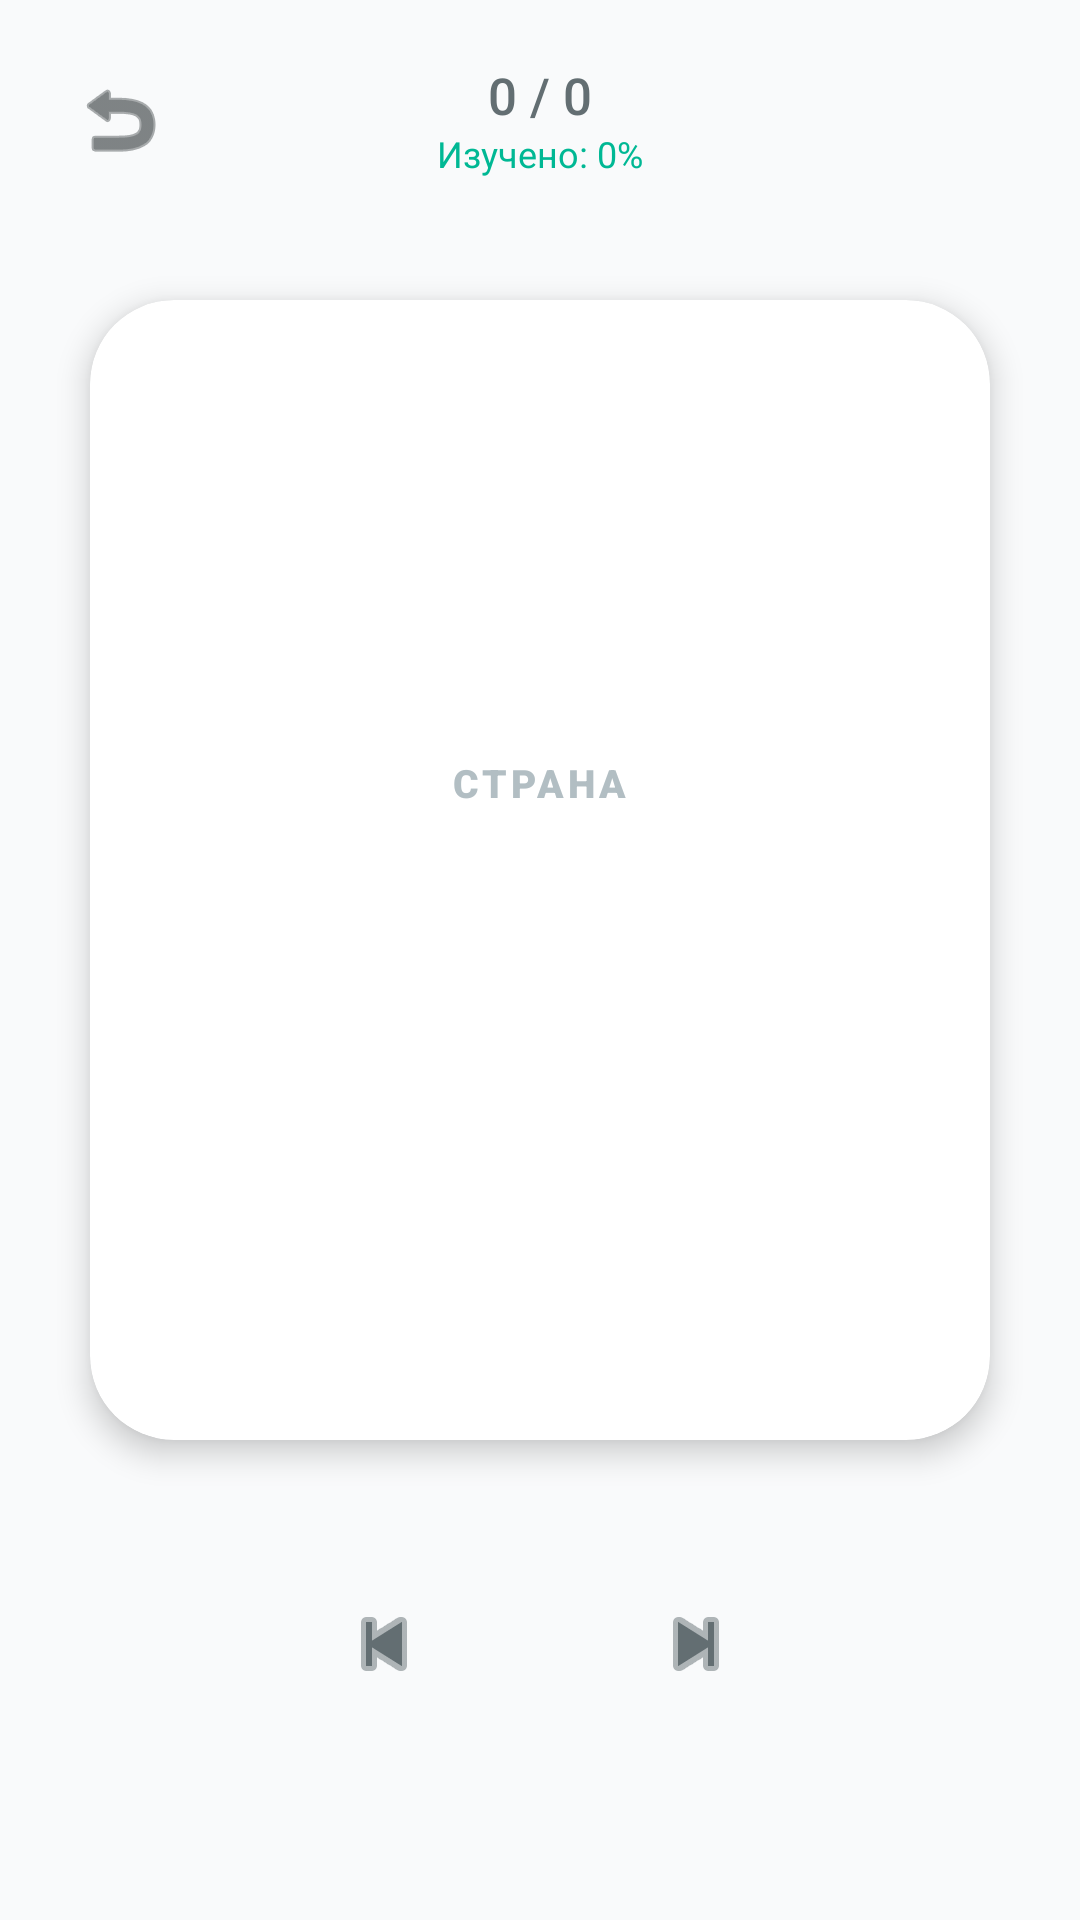

Where to tap for icons on this 1080*1920 app screen, as [x,y]:
next: [696,1644]
previous: [384,1644]
revert: [121,120]
